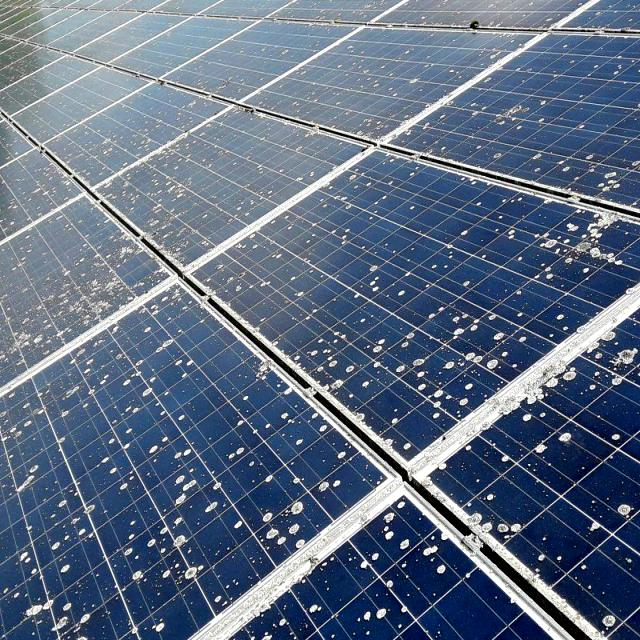bird: (382, 499, 462, 588), (130, 506, 204, 575), (160, 402, 219, 478), (244, 500, 324, 550), (22, 587, 96, 640), (588, 333, 632, 418), (368, 332, 432, 387), (457, 314, 515, 374), (362, 242, 414, 306), (520, 358, 582, 409), (238, 382, 298, 434), (567, 214, 617, 272), (54, 492, 100, 555), (304, 324, 346, 384), (160, 332, 203, 387), (466, 508, 528, 542), (65, 277, 108, 319), (598, 591, 632, 640), (340, 594, 388, 624), (589, 506, 615, 554), (533, 436, 577, 464), (428, 390, 467, 420), (122, 362, 157, 394), (624, 494, 640, 536)
